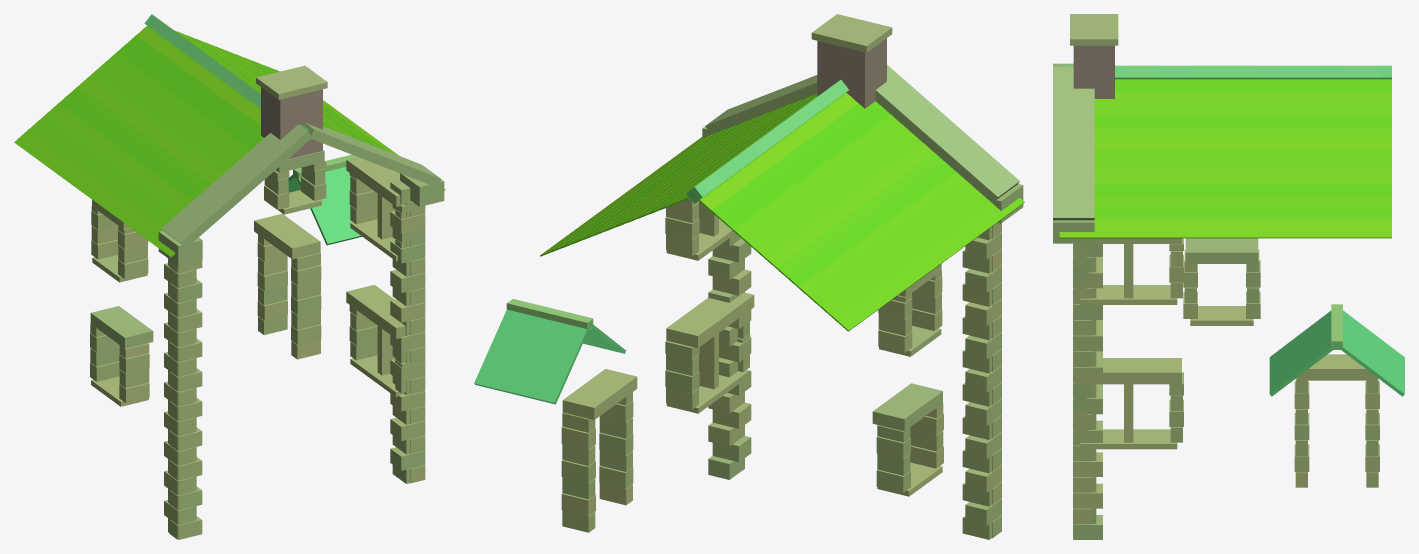
Rendered from SM_Bld_243_Stone.glb.
3 renders of one model, left to right at view 1: azimuth 30°, elevation 25°; view 2: azimuth 150°, elevation 25°; view 3: azimuth 270°, elevation 25°, orthographic. The views are drawn at different scales.
Visible parts, largest first — view 1: SM_Bld_243_Stone; view 2: SM_Bld_243_Stone; view 3: SM_Bld_243_Stone.
Part boxes in pixels (bbox=[...]): SM_Bld_243_Stone: bbox=[14, 14, 445, 539]; SM_Bld_243_Stone: bbox=[474, 14, 1024, 539]; SM_Bld_243_Stone: bbox=[1053, 14, 1404, 539].
Size of the model in its own units: 6.94 by 8.57 by 6.08.
